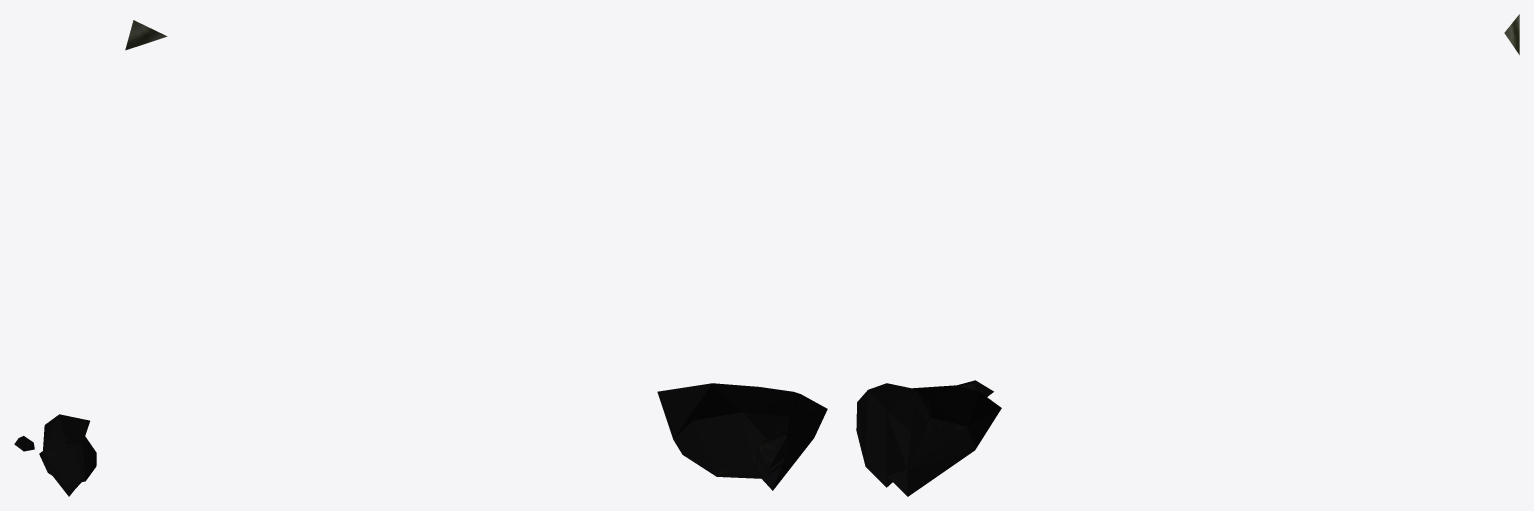
The picture shows the model from 3 angles, left to right: view 1: azimuth 30°, elevation 25°; view 2: azimuth 150°, elevation 25°; view 3: azimuth 270°, elevation 25°; orthographic projection. The views are drawn at different scales.
Size of the model in its own units: 1.33 by 2.27 by 2.31.
Materials: 1 (1 with a texture image).
